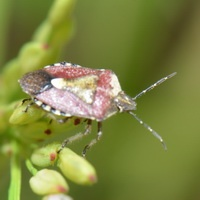insect: (19, 62, 175, 123)
